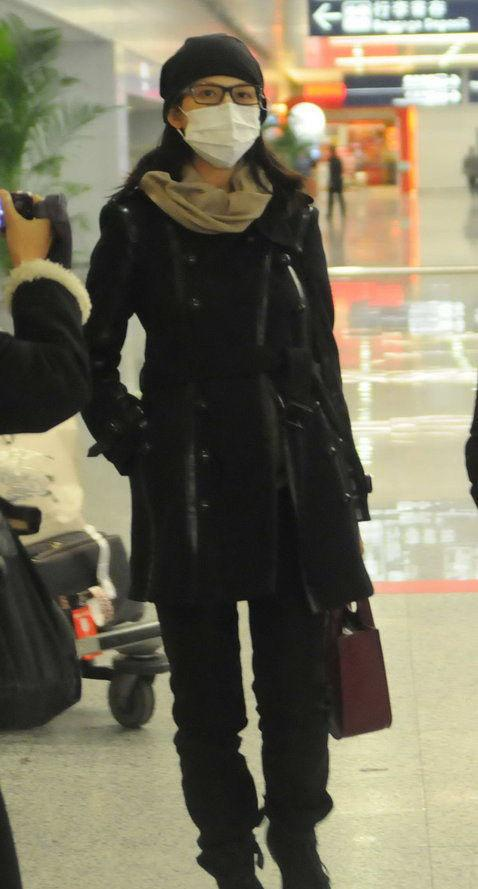OK: (181, 68, 276, 163)
